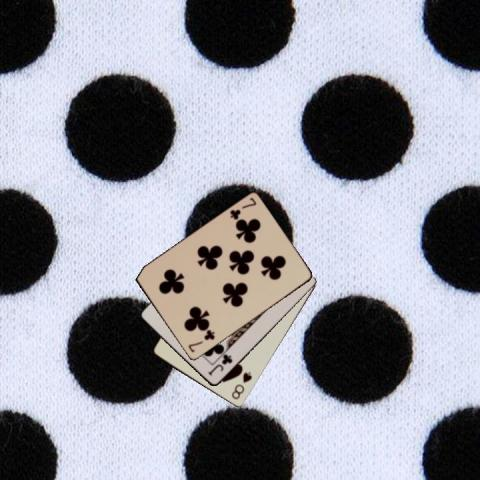7c: (185, 328, 216, 354), (227, 195, 258, 221)
8s: (229, 369, 253, 401)
Jc: (205, 352, 234, 377)
